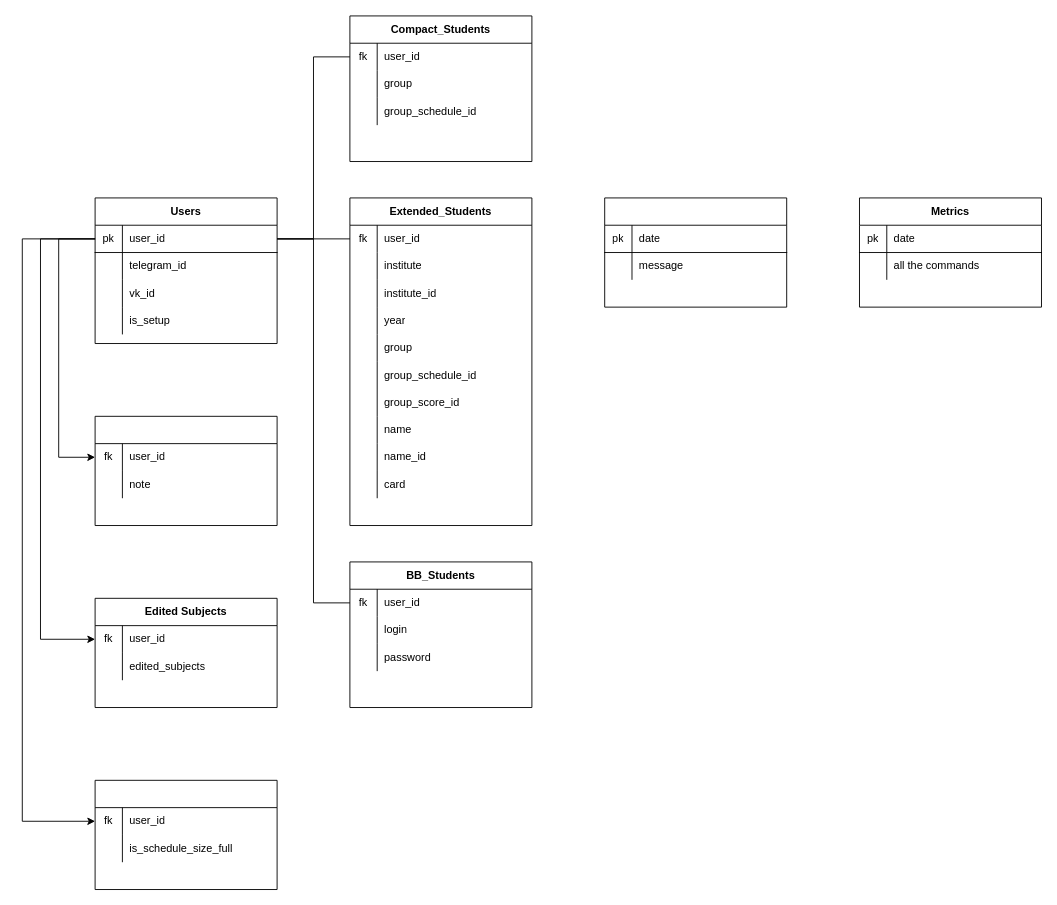
Some shapes in this 1057 by 905 pixel diagram are drawn without their labels. The shapes that lost their labels are listed below. From the top down, each one's box as (x1, y1, x2, y2) in pixels, then its label:
(604, 197, 787, 307): Days_Off
(94, 415, 277, 526): Notes
(94, 779, 277, 890): Settings
